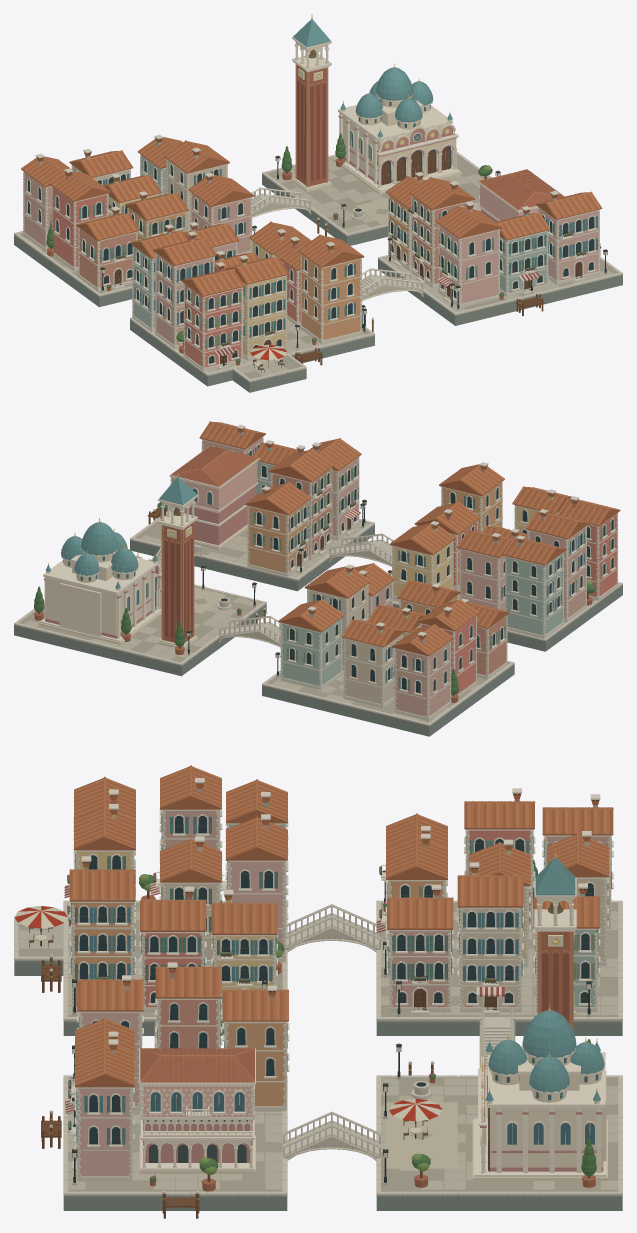
Rendered from city.glb.
The picture shows the model from 3 angles, top to bottom: view 1: azimuth 30°, elevation 25°; view 2: azimuth 150°, elevation 25°; view 3: azimuth 270°, elevation 25°; orthographic projection. The views are drawn at different scales.
Visible parts, largest first — view 1: VeniceCity; view 2: VeniceCity; view 3: VeniceCity.
Part boxes in pixels (x1=…): VeniceCity: x1=14, y1=14, x2=622, y2=392; VeniceCity: x1=14, y1=421, x2=622, y2=736; VeniceCity: x1=14, y1=765, x2=622, y2=1218.
Size of the model in its own units: 64.12 by 25.78 by 54.46.
